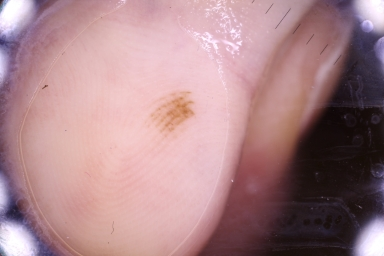nevus: (151, 96, 194, 136)
